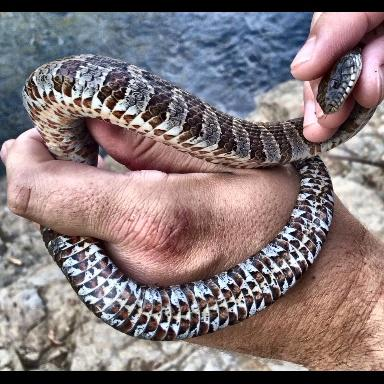snake: (25, 34, 377, 348), (25, 57, 336, 342)
